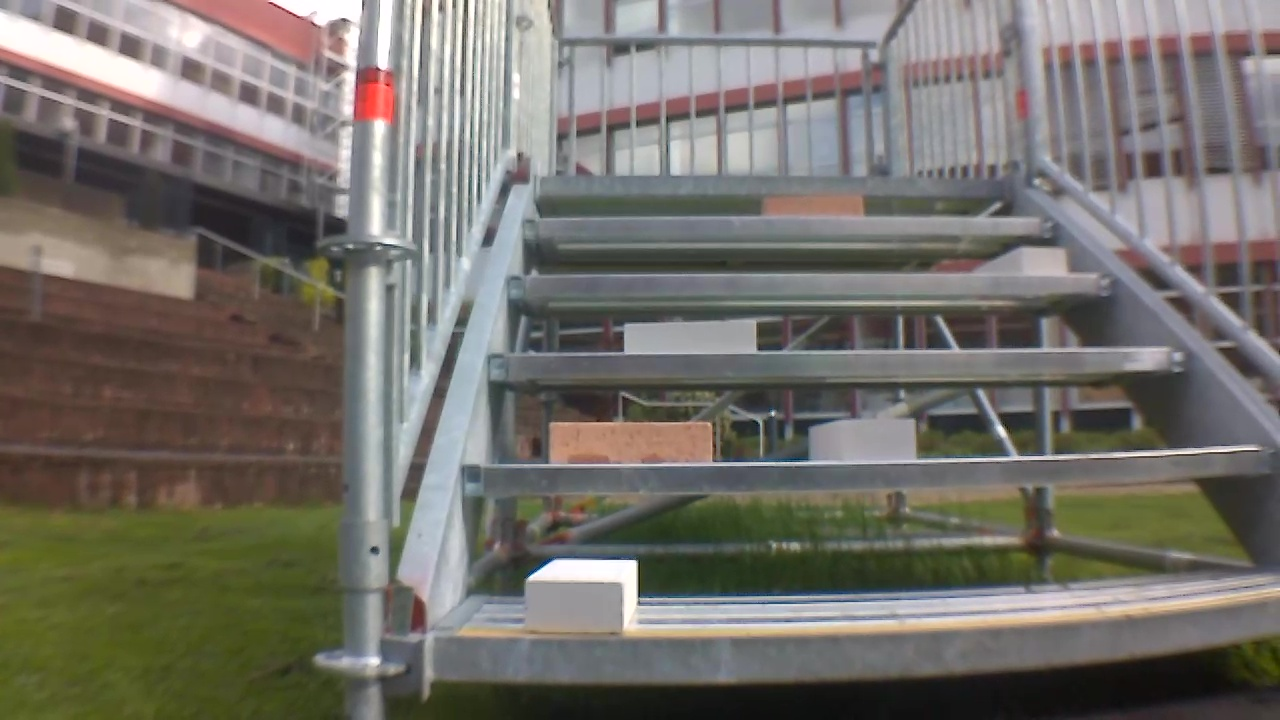brick: (523, 560, 637, 632), (550, 423, 711, 463), (810, 420, 913, 462), (624, 320, 755, 352), (977, 247, 1065, 274), (762, 194, 860, 216)
edge: (433, 598, 1280, 684), (474, 451, 1271, 494), (486, 349, 1188, 377), (507, 273, 1116, 297), (526, 216, 1058, 235), (538, 175, 1009, 194)
stairs: (332, 5, 1280, 713)
steps: (426, 170, 1280, 698)
